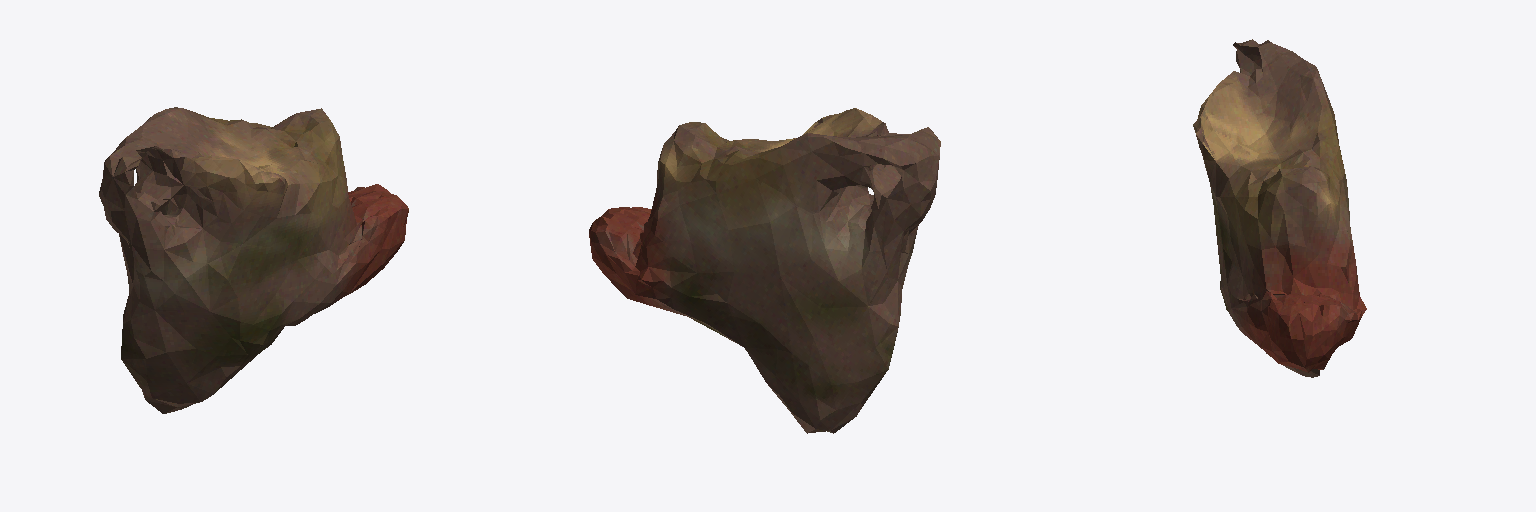
3 views of the same model, side by side, from view 1: azimuth 30°, elevation 25°; view 2: azimuth 150°, elevation 25°; view 3: azimuth 270°, elevation 25° (orthographic).
Visible parts, largest first — view 1: art_meatpiece_Icosphere; view 2: art_meatpiece_Icosphere; view 3: art_meatpiece_Icosphere.
Boxes of the visible parts, <box> form: art_meatpiece_Icosphere: <box>99,107,408,413</box>; art_meatpiece_Icosphere: <box>589,108,940,433</box>; art_meatpiece_Icosphere: <box>1193,39,1366,377</box>.
Size of the model in its own units: 2.94 by 2.63 by 1.38.
1 materials, 1 textured.